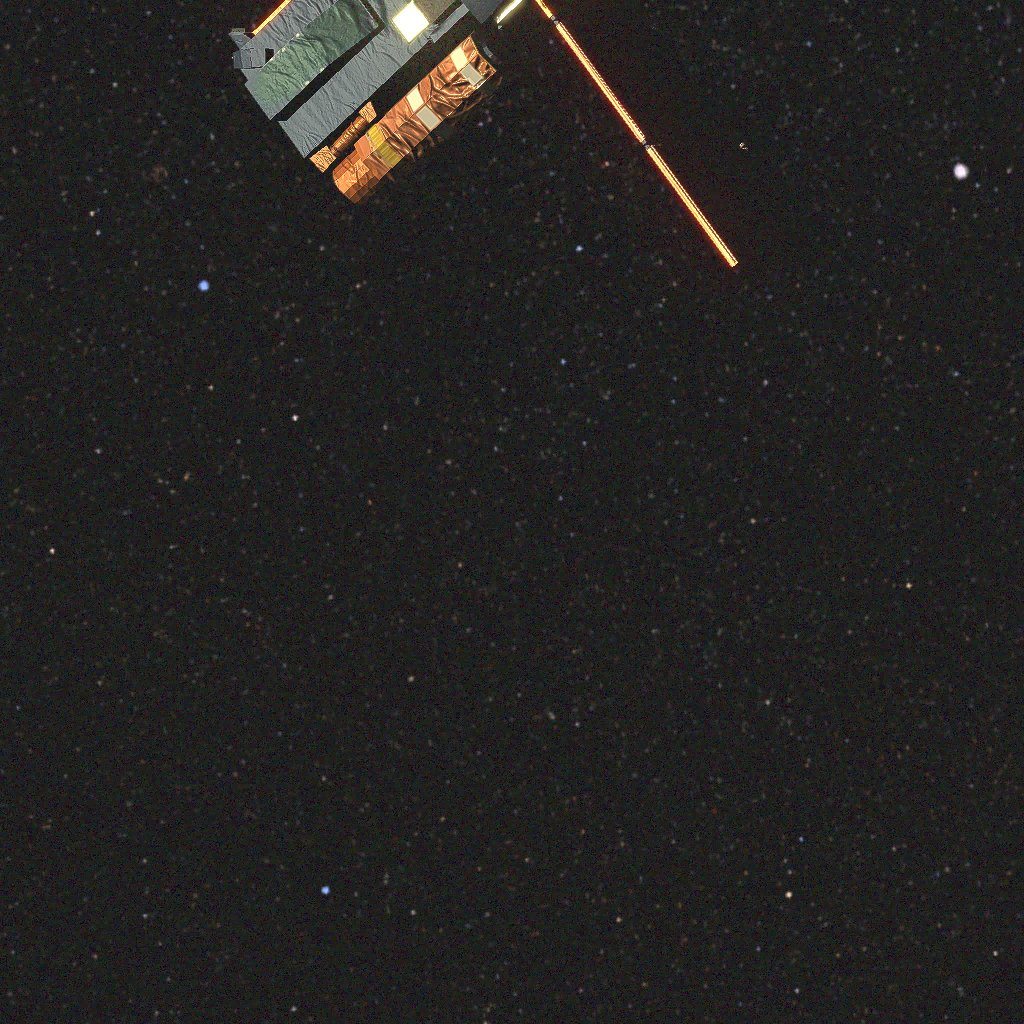soho: (228, 0, 832, 267)
